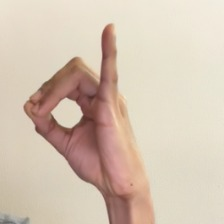D: (20, 15, 173, 202)
